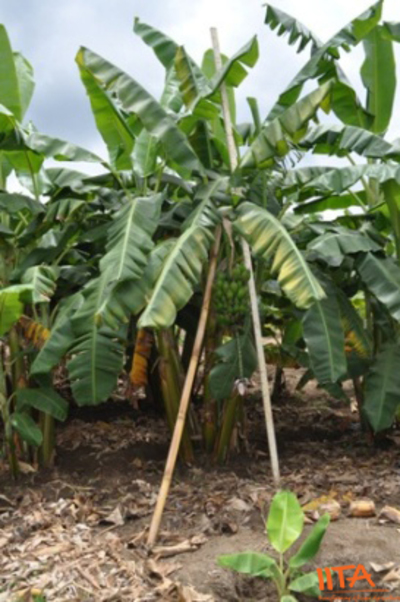bananaHand: (212, 261, 254, 329)
